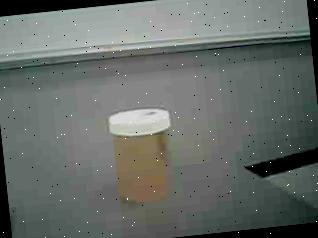Bottle B: (97, 96, 186, 214)
